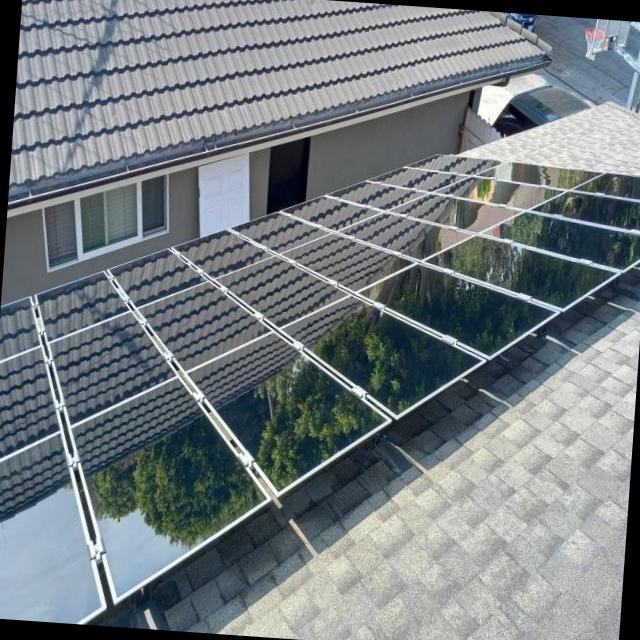no faulty: (70, 385, 269, 600), (191, 330, 393, 491), (291, 300, 484, 420), (0, 431, 105, 624), (358, 264, 556, 360), (51, 313, 177, 423), (429, 237, 615, 309), (138, 282, 269, 369), (216, 256, 347, 326), (481, 211, 640, 268), (284, 234, 411, 290), (0, 348, 58, 458), (36, 270, 129, 336), (345, 211, 467, 260), (113, 252, 205, 302), (395, 194, 517, 231), (179, 230, 272, 276), (237, 213, 325, 252), (289, 195, 377, 226), (331, 180, 421, 210)
